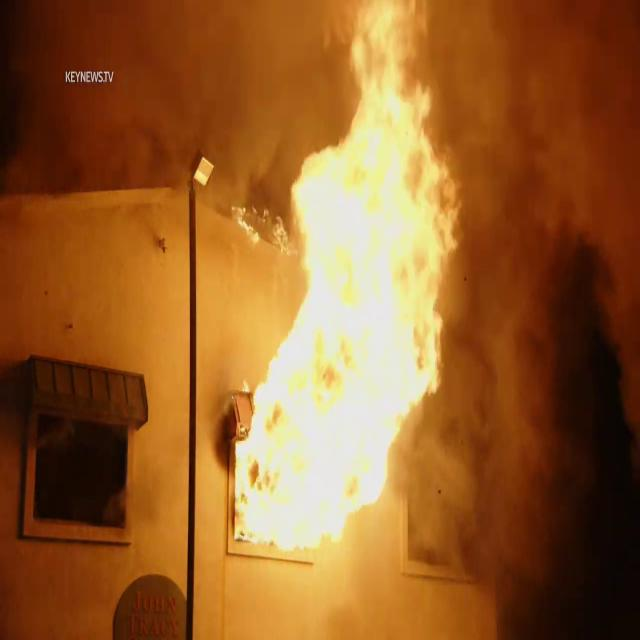Fire: (217, 16, 453, 565)
Smoke: (434, 2, 640, 610)
